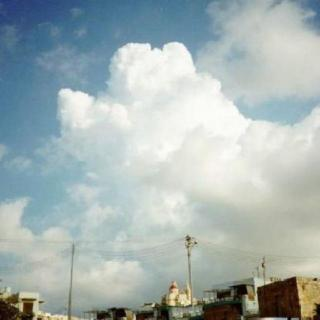Stratocumulus: (0, 1, 320, 287)
